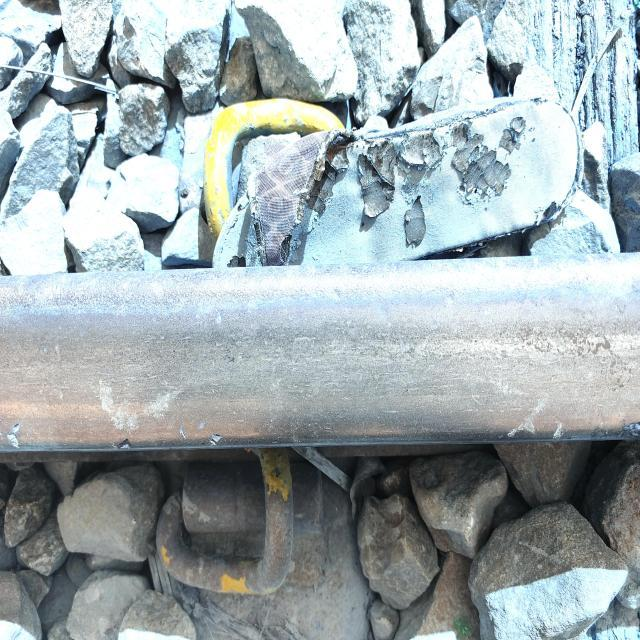Good Fasteners: (150, 448, 368, 639), (162, 100, 344, 267)
